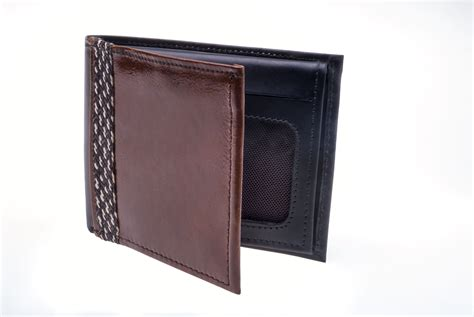cuero: (79, 32, 344, 294)
